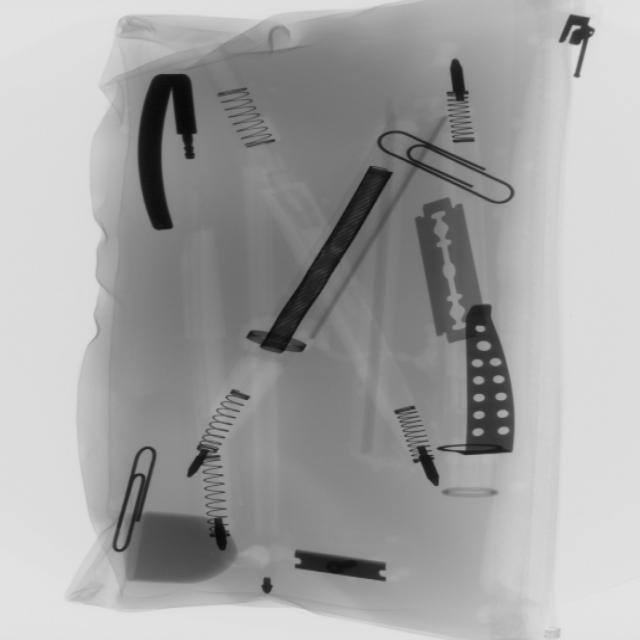BLADE: (410, 186, 493, 354)
